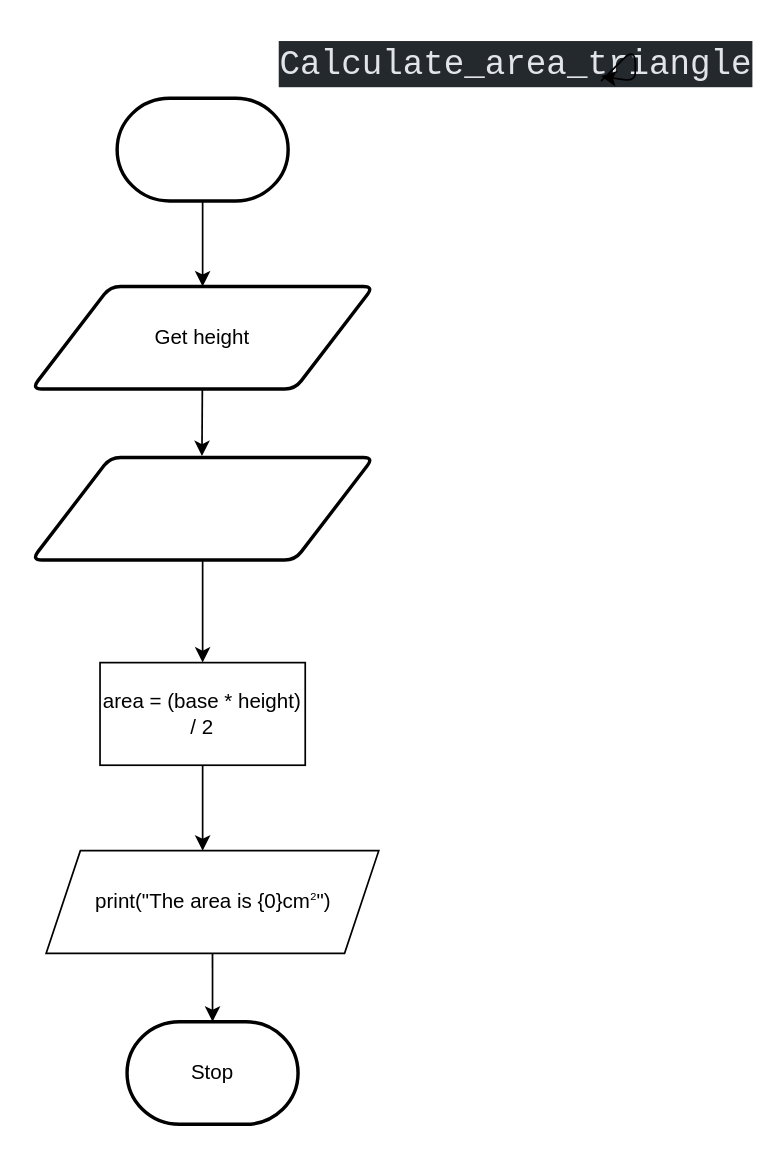
Image size: 780x1154. Some labels were removed from this diagram. The centre of each missing label's shape, as x and y in pixels:
"get base" belongs at pixel 201 508.
"Start" belongs at pixel 202 149.
